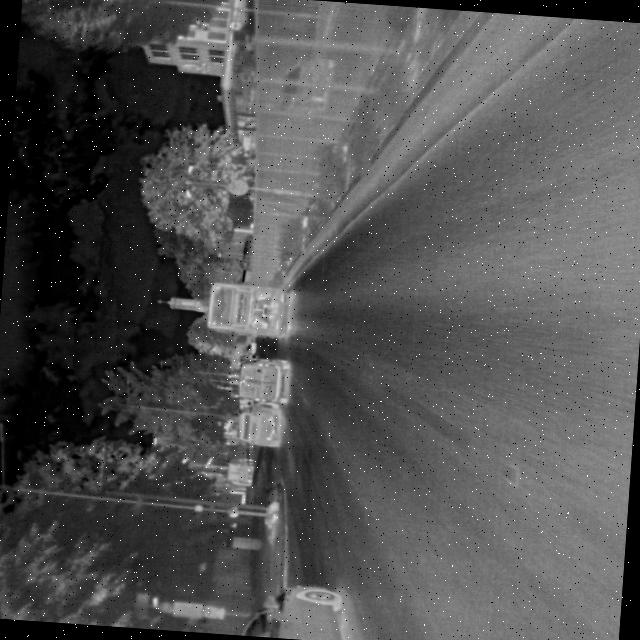Vehicle: (235, 577, 348, 640), (203, 280, 291, 340), (232, 355, 292, 405), (233, 401, 284, 448)
